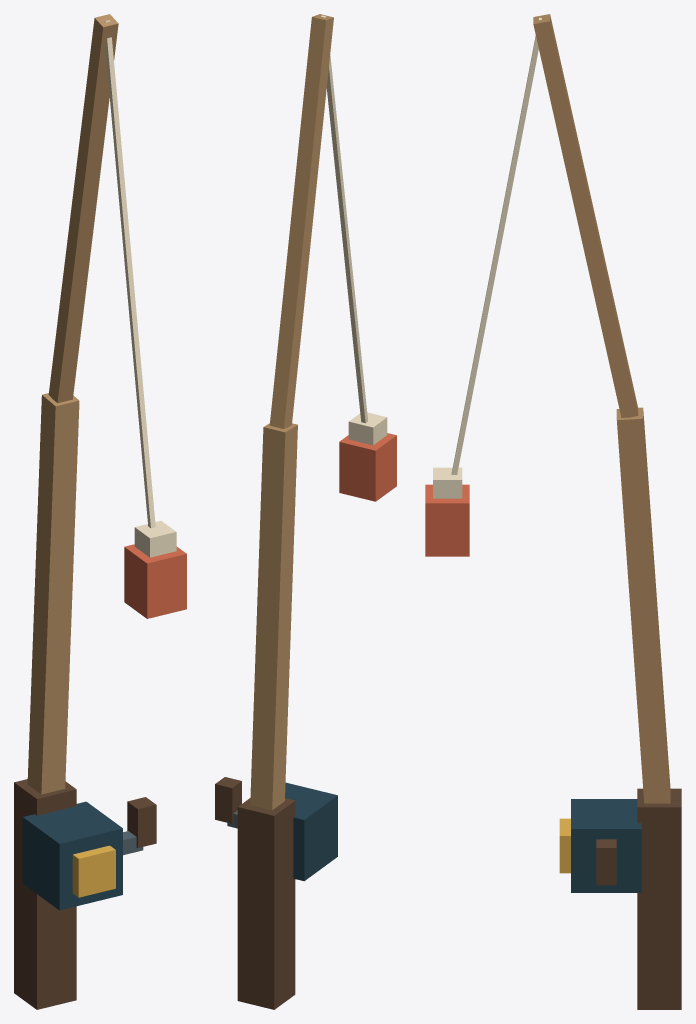
The model's file is rod.gltf.
3 views of the same model, side by side, from view 1: azimuth 30°, elevation 25°; view 2: azimuth 150°, elevation 25°; view 3: azimuth 270°, elevation 25° (orthographic). The views are drawn at different scales.
Parts seen in each view (by area): view 1: rod; view 2: rod; view 3: rod.
Part boxes in pixels (<box>): rod: <box>14,14,186,1009</box>; rod: <box>215,14,396,1009</box>; rod: <box>425,14,681,1009</box>.
Bounding box in the file's own units: 0.2075 × 1.84 × 0.435.
